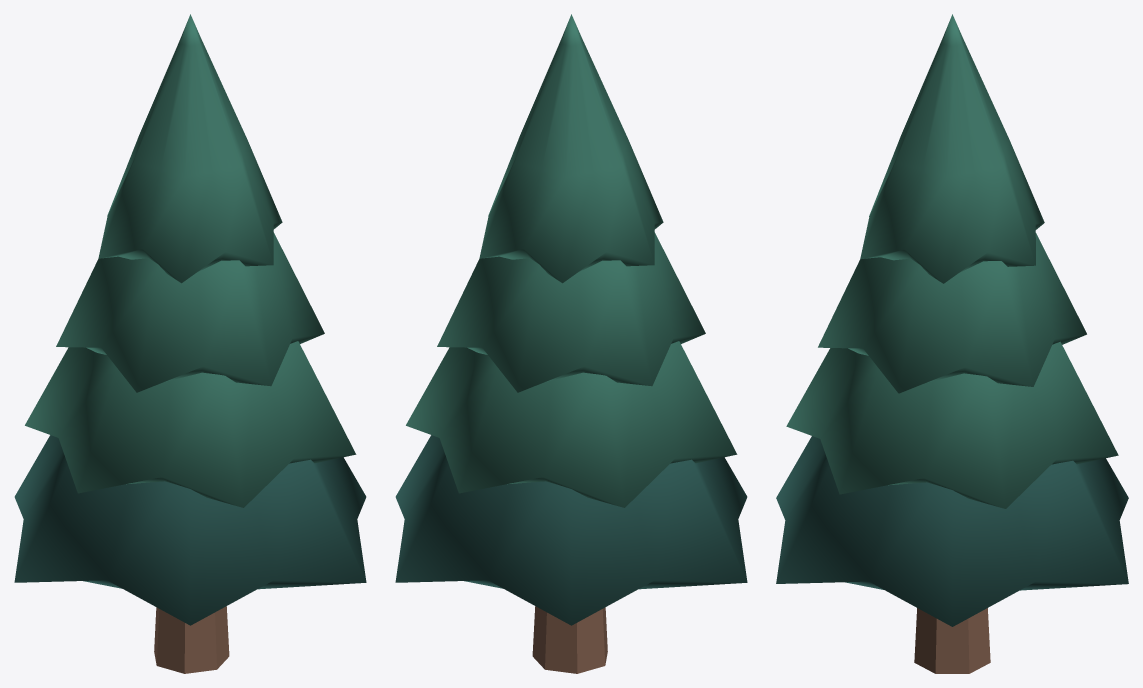
Rendered from pine_tree_medium_01.glb.
The picture shows the model from 3 angles, left to right: view 1: azimuth 30°, elevation 25°; view 2: azimuth 150°, elevation 25°; view 3: azimuth 270°, elevation 25°; orthographic projection.
Parts seen in each view (by area): view 1: pine_tree_medium_01; view 2: pine_tree_medium_01; view 3: pine_tree_medium_01.
Boxes of the visible parts, x1=… form: pine_tree_medium_01: x1=14, y1=14, x2=366, y2=673; pine_tree_medium_01: x1=395, y1=14, x2=747, y2=673; pine_tree_medium_01: x1=776, y1=14, x2=1128, y2=673.
Size of the model in its own units: 1.49 by 2.6 by 1.29.
